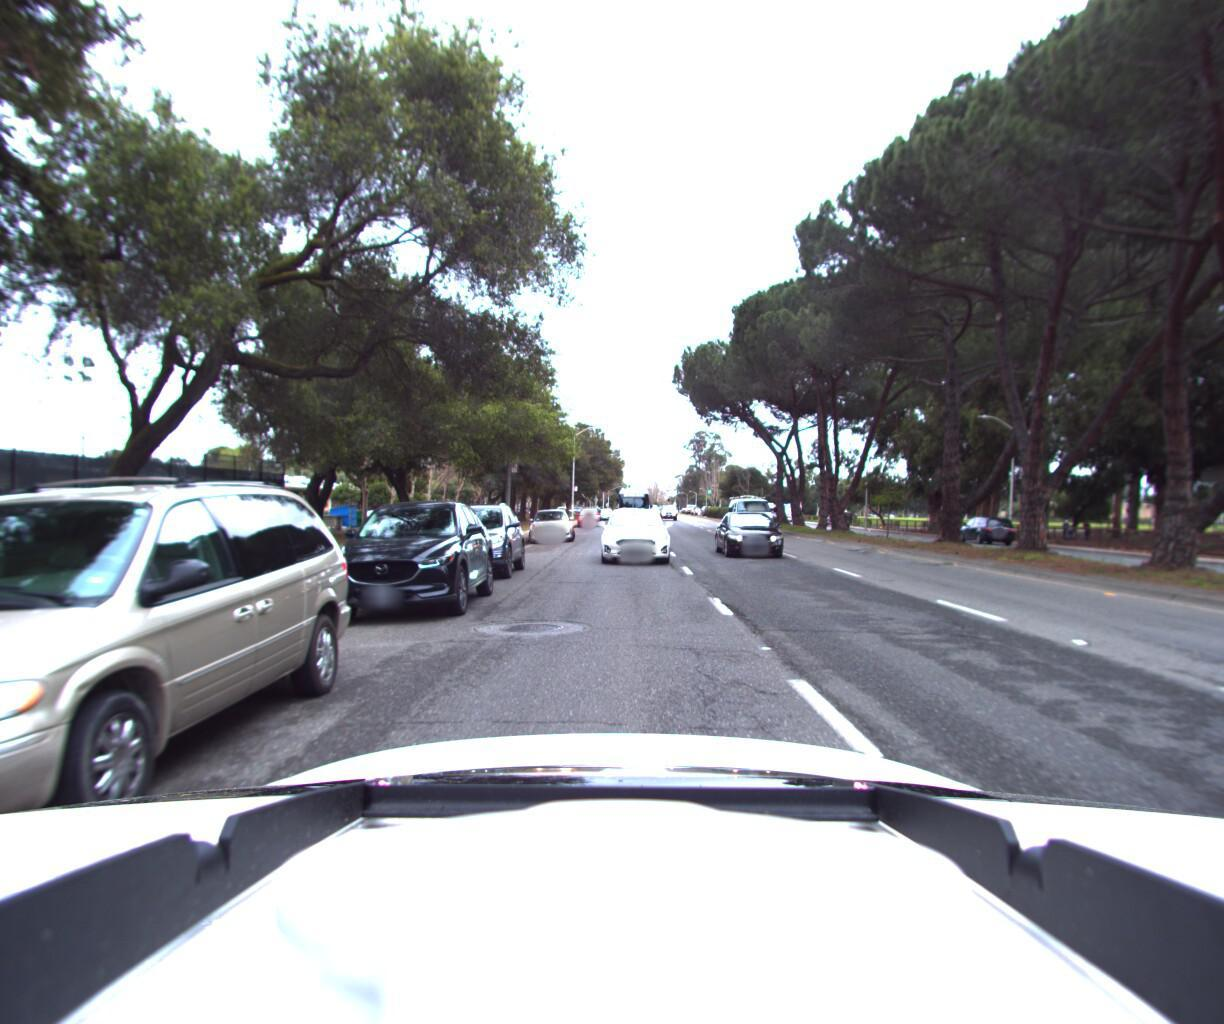car: (304, 492, 503, 628), (412, 499, 528, 586), (601, 507, 676, 568), (713, 510, 789, 562), (729, 490, 779, 532), (948, 514, 1009, 545), (532, 505, 574, 543), (575, 505, 599, 526)
other_vehicle: (613, 485, 650, 522)
